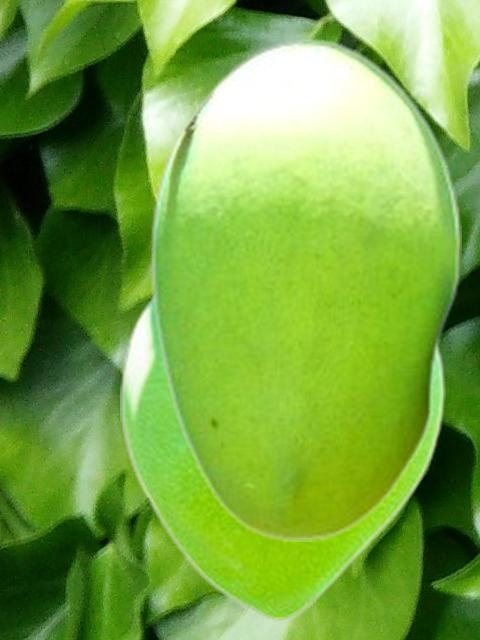green_mango: (149, 37, 460, 540), (120, 293, 444, 622)
